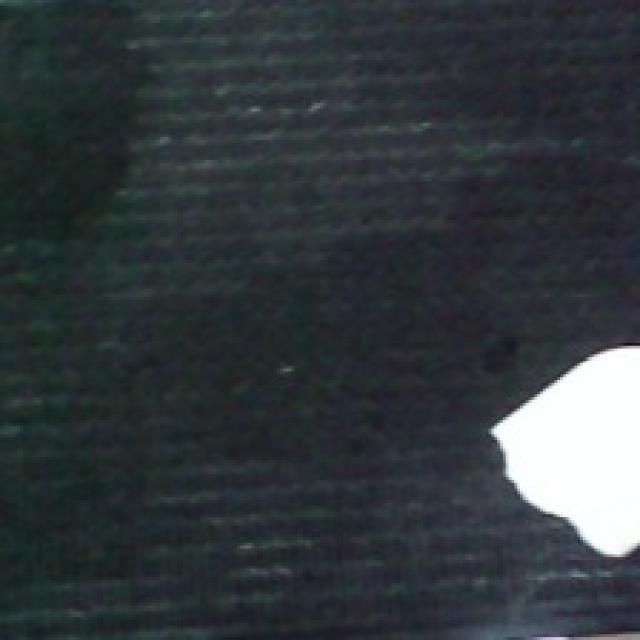defected: (480, 343, 637, 563)
